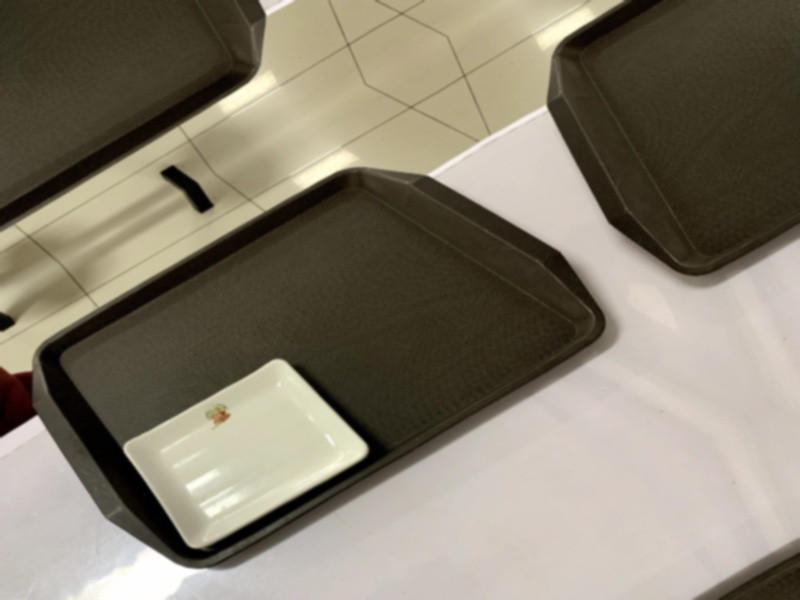dish4: (93, 343, 390, 562)
